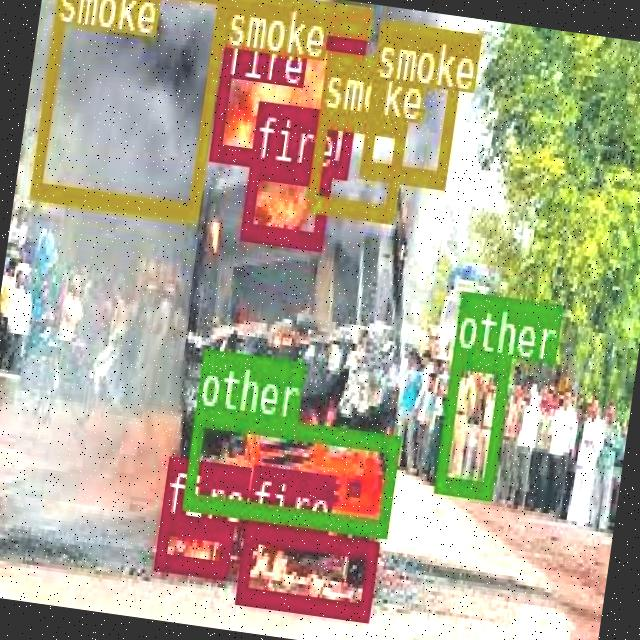fire: (208, 17, 364, 174), (234, 520, 378, 618), (238, 158, 331, 246), (154, 512, 232, 577)
smoke: (28, 0, 228, 218), (358, 17, 466, 184), (304, 106, 405, 220), (226, 0, 372, 36)
